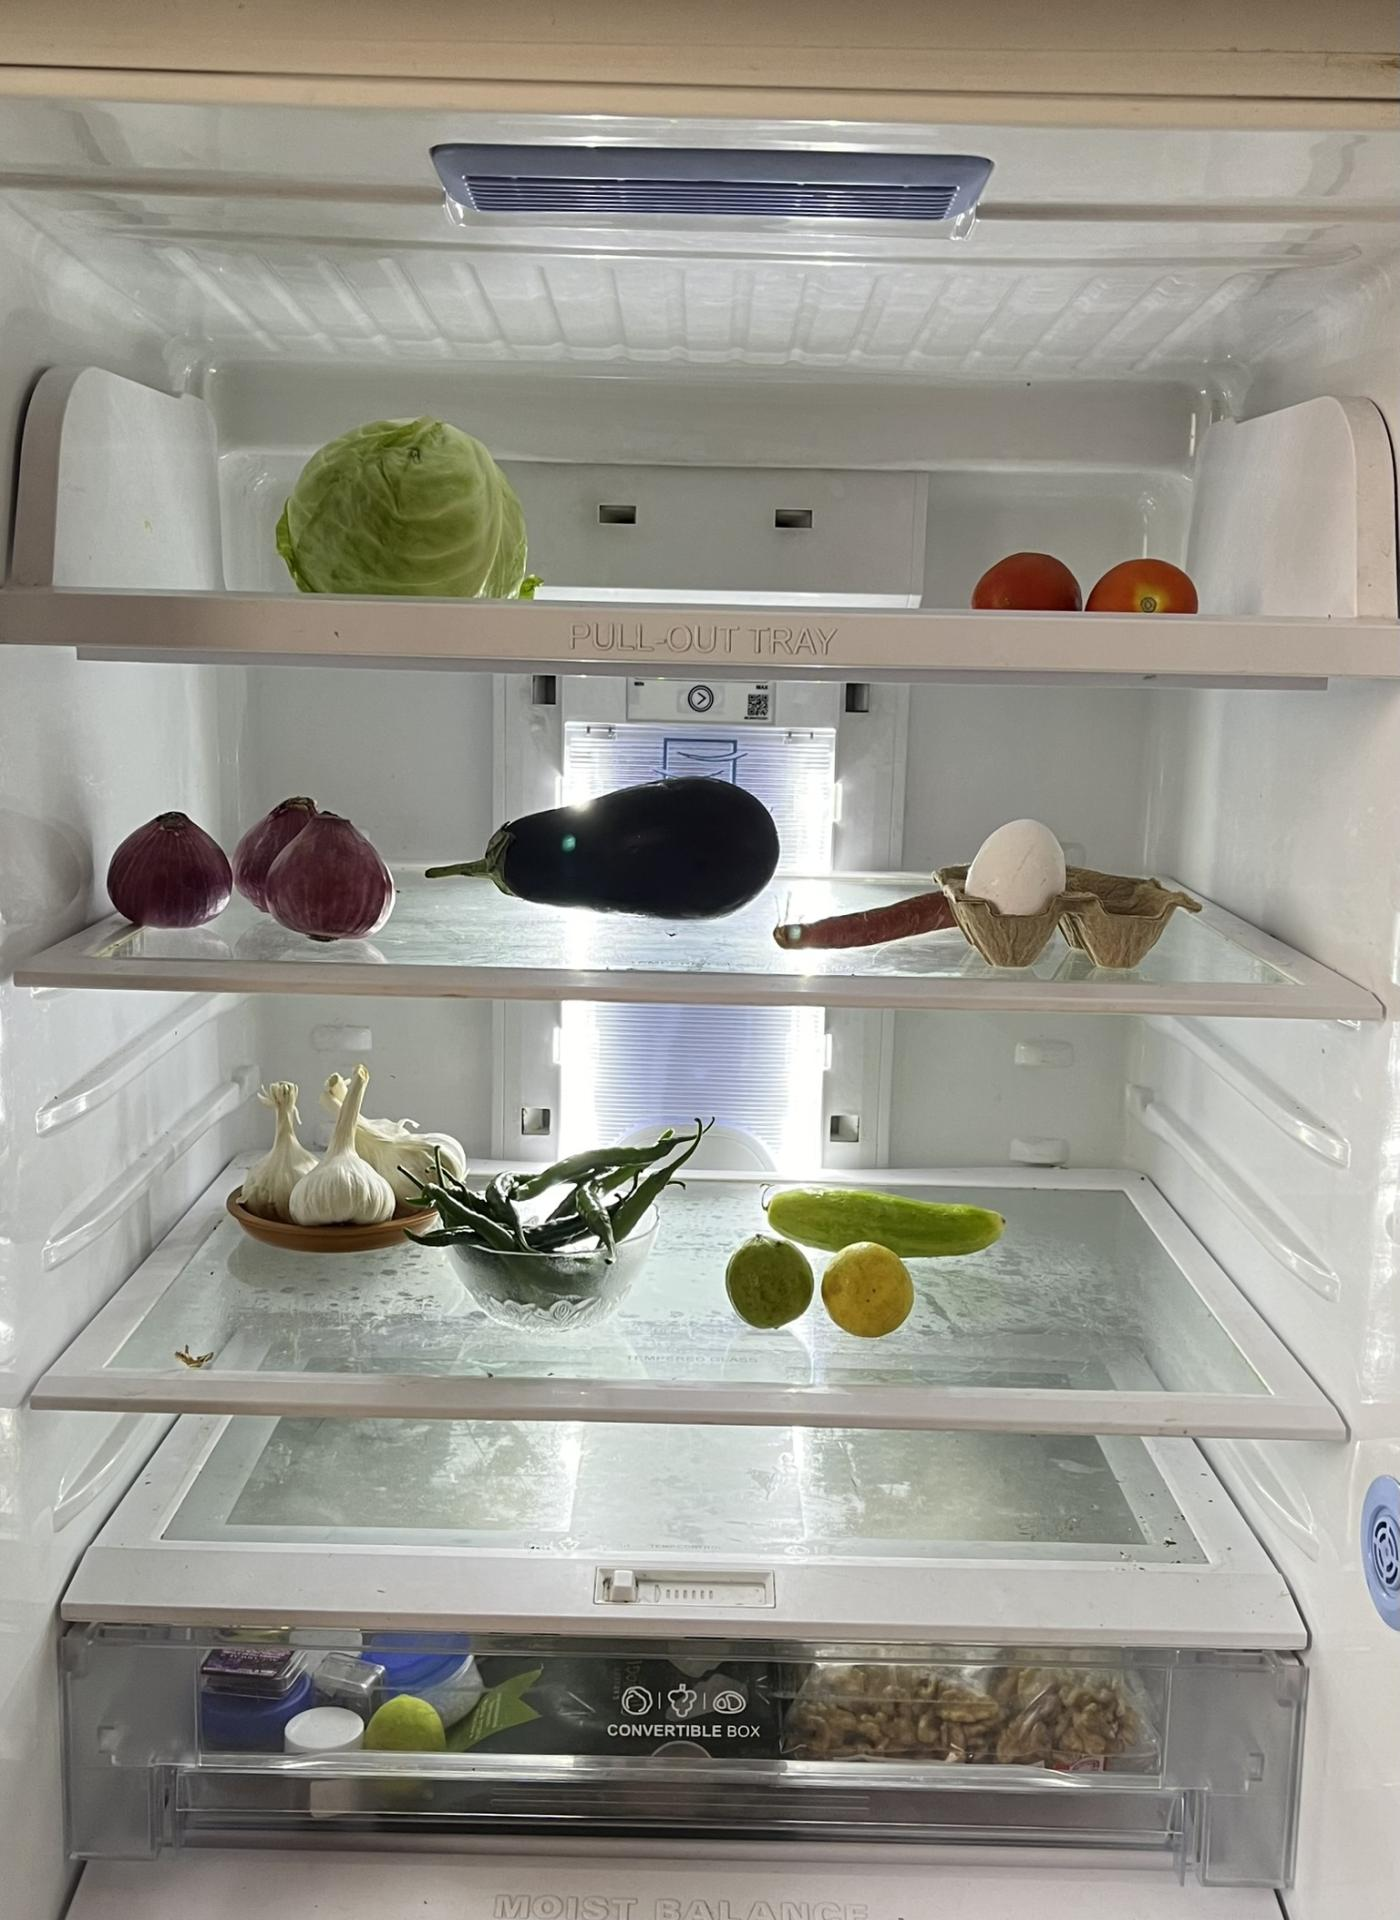cabbage: (270, 413, 532, 593)
carrots: (753, 897, 957, 950)
chillies: (404, 1115, 705, 1337)
cucumber: (747, 1175, 1027, 1254)
egg: (960, 803, 1079, 959)
garlic: (243, 1063, 474, 1237)
lemon: (823, 1240, 930, 1343), (729, 1231, 820, 1328)
onion: (234, 784, 401, 944), (97, 799, 231, 935)
tomato: (1085, 550, 1200, 616), (963, 547, 1085, 607)
